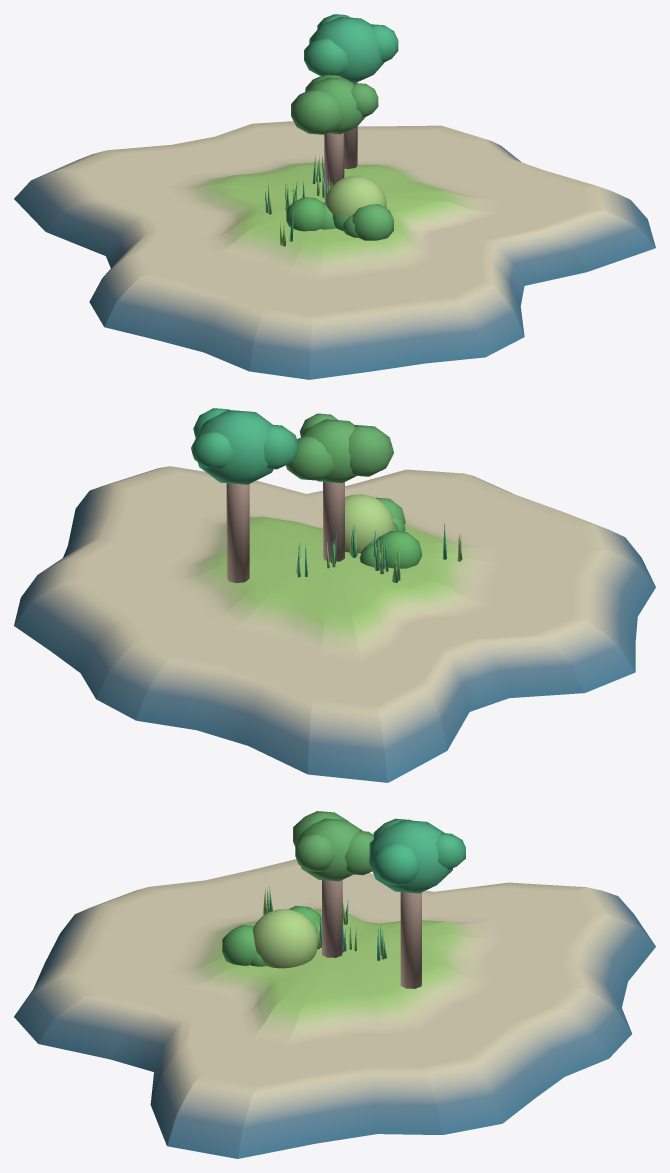
File: terrain_island_05.glb
The picture shows the model from 3 angles, top to bottom: view 1: azimuth 30°, elevation 25°; view 2: azimuth 150°, elevation 25°; view 3: azimuth 270°, elevation 25°; orthographic projection. The views are drawn at different scales.
Visible parts, largest first — view 1: island_terrain, veg_tree1_tree_crown_c, veg_tree0_tree_crown_0, hill0, veg_tree0_tree_crown_c, veg_tree1_tree_crown_0, veg_shrub1_ball3, veg_shrub0_ball0, veg_tree0_tree_trunk, veg_tree1_tree_crown_2, veg_tree0_tree_crown_2, veg_tree1_tree_trunk; view 2: island_terrain, veg_tree1_tree_crown_c, veg_tree1_tree_trunk, hill0, veg_tree0_tree_crown_0, veg_tree0_tree_crown_c, veg_tree0_tree_trunk, veg_tree0_tree_crown_1, veg_shrub0_ball0, veg_tree1_tree_crown_1, veg_tree1_tree_crown_0; view 3: island_terrain, hill0, veg_tree1_tree_crown_c, veg_tree1_tree_trunk, veg_tree0_tree_crown_c, veg_tree0_tree_trunk, veg_tree1_tree_crown_2, veg_tree0_tree_crown_2, veg_shrub1_ball3, veg_tree0_tree_crown_1, veg_tree1_tree_crown_1, veg_tree0_tree_crown_0.
Part boxes in pixels (left/top/right/bottom): island_terrain: left=14, top=121, right=655, bottom=379; veg_tree1_tree_crown_c: left=309, top=17, right=384, bottom=83; veg_tree0_tree_crown_0: left=291, top=88, right=342, bottom=134; hill0: left=325, top=175, right=386, bottom=216; veg_tree0_tree_crown_c: left=306, top=77, right=365, bottom=134; veg_tree1_tree_crown_0: left=304, top=39, right=348, bottom=75; veg_shrub1_ball3: left=352, top=204, right=393, bottom=240; veg_shrub0_ball0: left=286, top=197, right=325, bottom=231; veg_tree0_tree_trunk: left=324, top=133, right=344, bottom=200; veg_tree1_tree_crown_2: left=371, top=24, right=398, bottom=62; veg_tree0_tree_crown_2: left=351, top=83, right=378, bottom=117; veg_tree1_tree_trunk: left=344, top=82, right=357, bottom=168; island_terrain: left=14, top=466, right=655, bottom=782; veg_tree1_tree_crown_c: left=195, top=410, right=273, bottom=484; veg_tree1_tree_trunk: left=226, top=483, right=249, bottom=582; hill0: left=345, top=494, right=393, bottom=553; veg_tree0_tree_crown_0: left=348, top=425, right=393, bottom=476; veg_tree0_tree_crown_c: left=301, top=419, right=356, bottom=483; veg_tree0_tree_trunk: left=323, top=482, right=344, bottom=561; veg_tree0_tree_crown_1: left=286, top=436, right=334, bottom=480; veg_shrub0_ball0: left=376, top=531, right=422, bottom=568; veg_tree1_tree_crown_1: left=191, top=431, right=234, bottom=468; veg_tree1_tree_crown_0: left=264, top=425, right=299, bottom=469; island_terrain: left=14, top=859, right=655, bottom=1158; hill0: left=252, top=909, right=317, bottom=968; veg_tree1_tree_crown_c: left=369, top=820, right=452, bottom=893; veg_tree1_tree_trunk: left=400, top=892, right=421, bottom=988; veg_tree0_tree_crown_c: left=296, top=818, right=362, bottom=881; veg_tree0_tree_trunk: left=322, top=880, right=342, bottom=957; veg_tree1_tree_crown_2: left=373, top=843, right=419, bottom=885; veg_tree0_tree_crown_2: left=295, top=833, right=334, bottom=871; veg_shrub1_ball3: left=222, top=925, right=256, bottom=965; veg_tree0_tree_crown_1: left=345, top=831, right=373, bottom=875; veg_tree1_tree_crown_1: left=436, top=833, right=465, bottom=869; veg_tree0_tree_crown_0: left=293, top=811, right=348, bottom=846.
Bounding box in the file's own units: 157 × 56.17 × 152.
